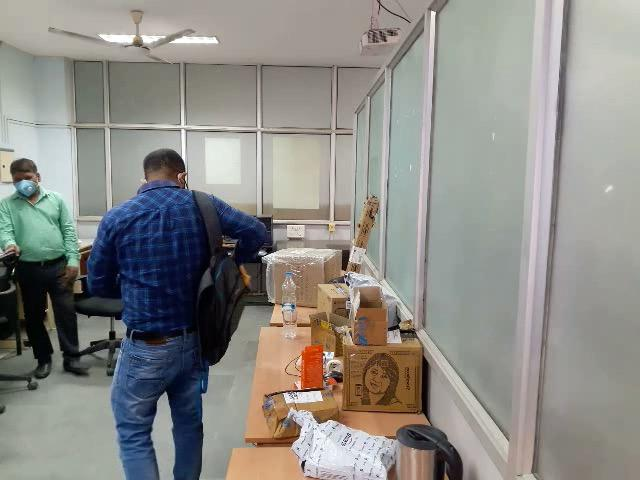shoplifting: (184, 234, 266, 376)
